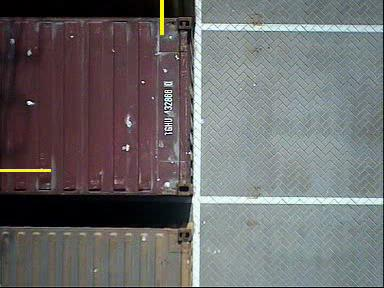groundmarker_2: (142, 17, 196, 48), (142, 189, 196, 219)
